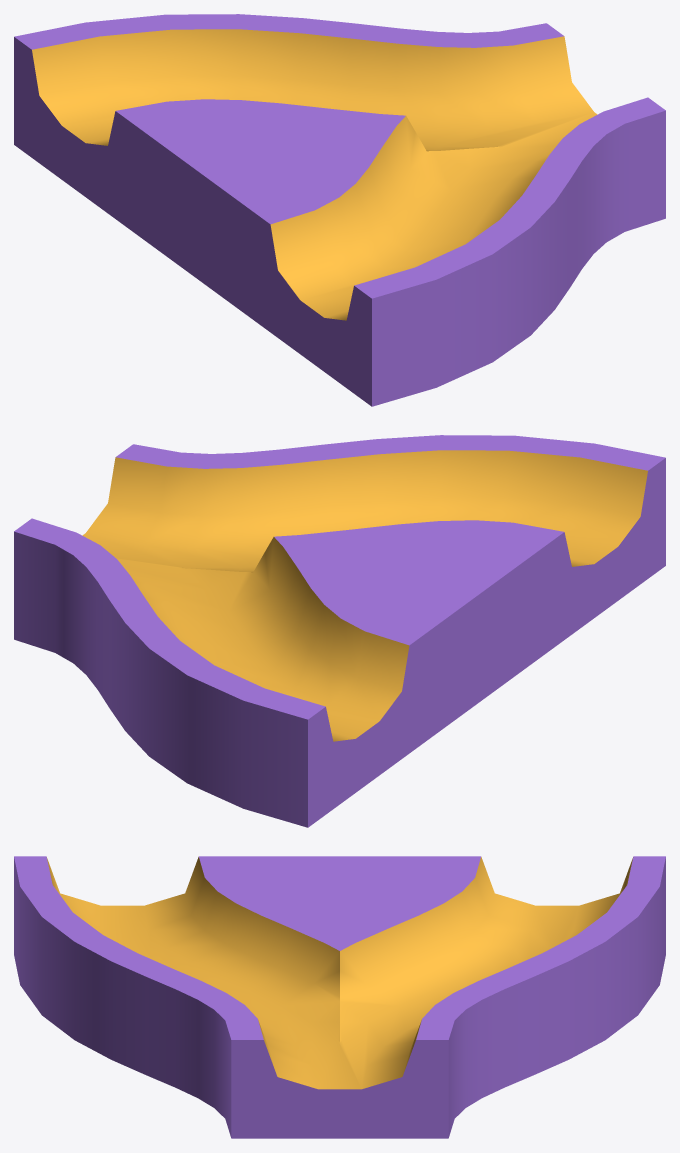
Rendered from split-double-solid-col.glb.
3 renders of one model, top to bottom at view 1: azimuth 30°, elevation 25°; view 2: azimuth 150°, elevation 25°; view 3: azimuth 270°, elevation 25°, orthographic. The views are drawn at different scales.
Parts seen in each view (by area): view 1: split-double-solid-col; view 2: split-double-solid-col; view 3: split-double-solid-col.
Boxes of the visible parts, x1,y1,x2,y2 form: split-double-solid-col: (14, 14, 665, 406); split-double-solid-col: (14, 435, 665, 827); split-double-solid-col: (14, 856, 665, 1138).
Size of the model in its own units: 2 by 0.5 by 3.
1 material, 1 textured.
